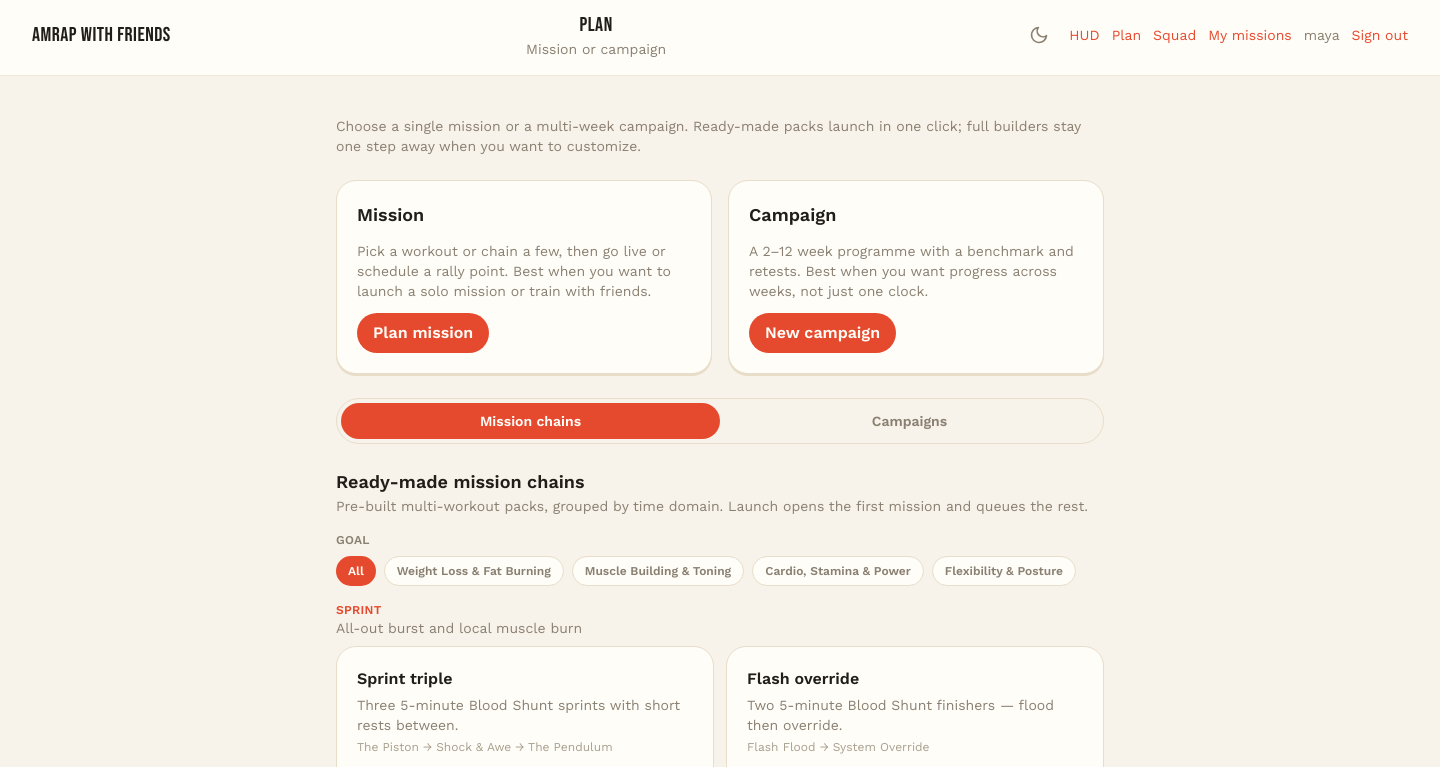
Test: PlanMissionPage › defaults to mission chains and toggles to campaigns
Expected: the heading "Ready-made mission chains" is shown, [336,471,584,492]
Expected: the text "Sprint triple" is shown, [357,669,452,688]
Click the tab "Campaigns": (910, 421) [720,403,1099,439]
(page scrolled)
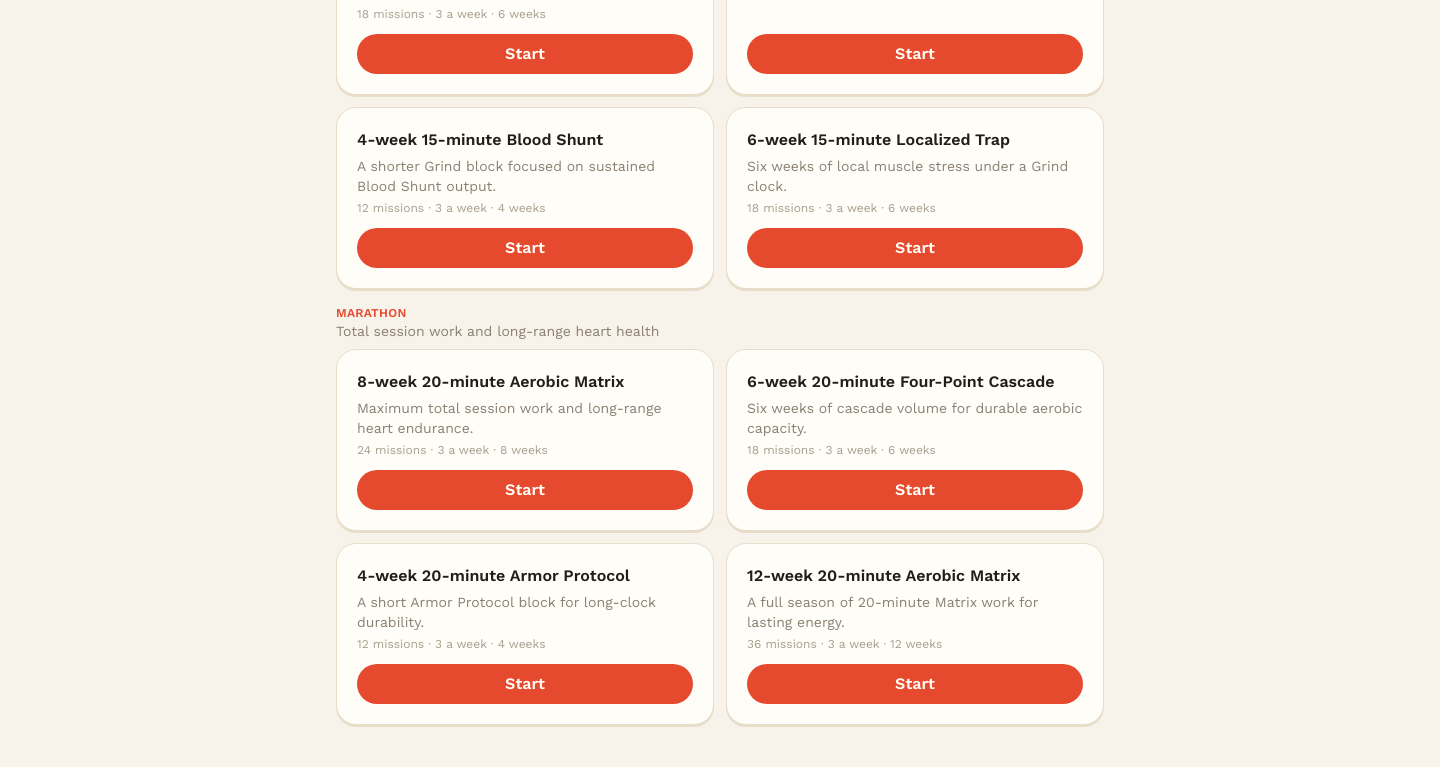
Expected: the text "4-week 15-minute Blood Shunt" is shown, [357,130,603,149]
Expected: the text "6-week 15-minute Localized Trap" is shown, [747,130,1010,149]
Expected: the text "8-week 20-minute Aerobic Matrix" is shown, [357,372,624,391]
